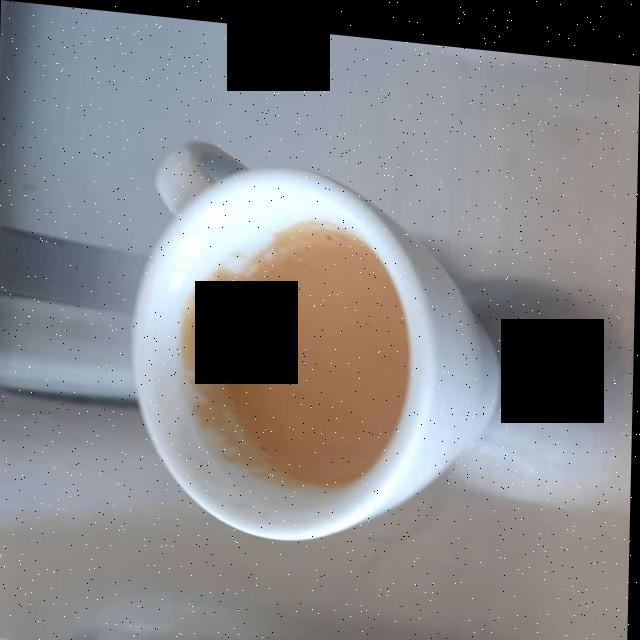drink: (138, 142, 501, 544)
